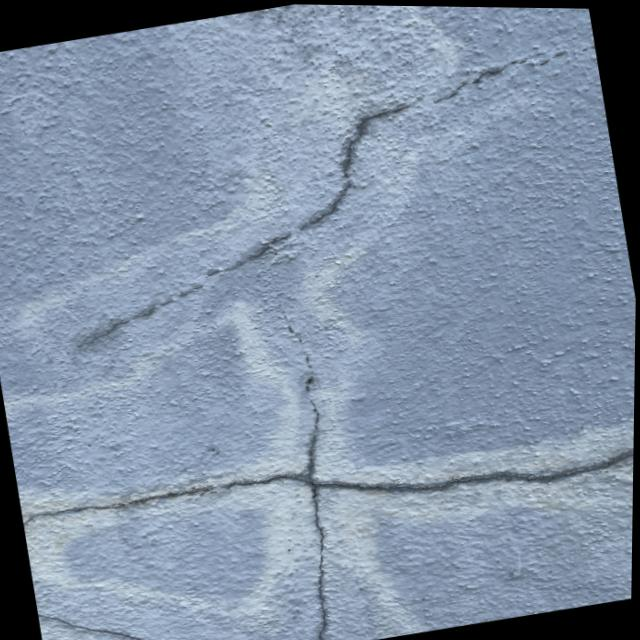Crack: (4, 301, 636, 640), (42, 32, 578, 344)
